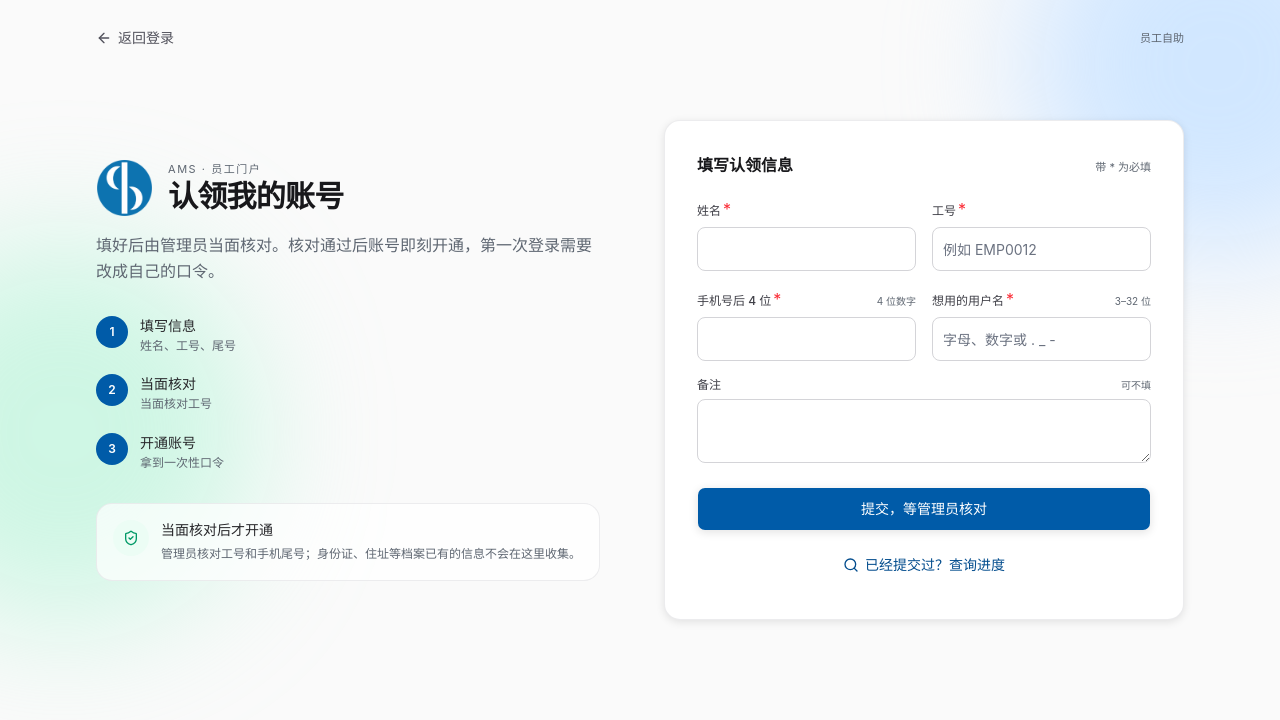
Test: 认领表单行内校验 › 空表单提交：四格各自给 helper，焦点落在第一格
Click the button "提交，等管理员核对": point(924, 509) [697,487,1151,531]
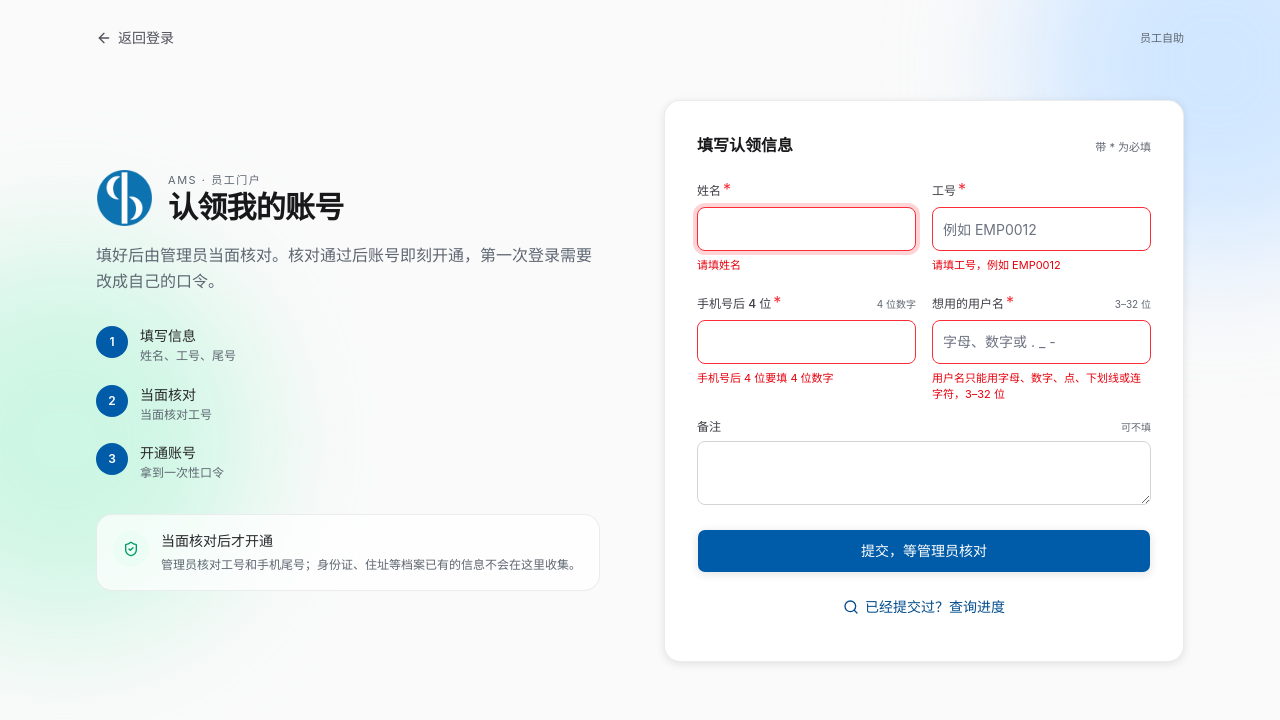
Result: the text "请填姓名" is shown at [697,258,741,272]
Result: the text "请填工号，例如 EMP0012" is shown at [932,258,1061,272]
Result: the text "手机号后 4 位要填 4 位数字" is shown at [697,370,834,384]
